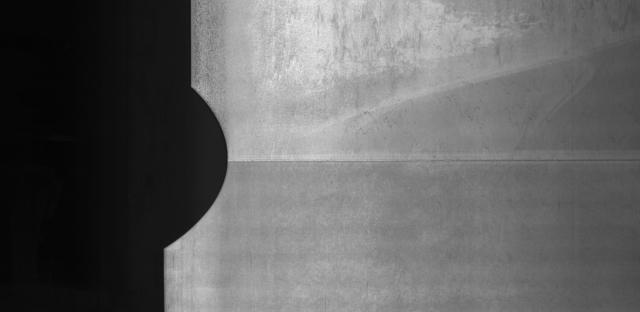crescent_gap: (148, 68, 244, 256)
